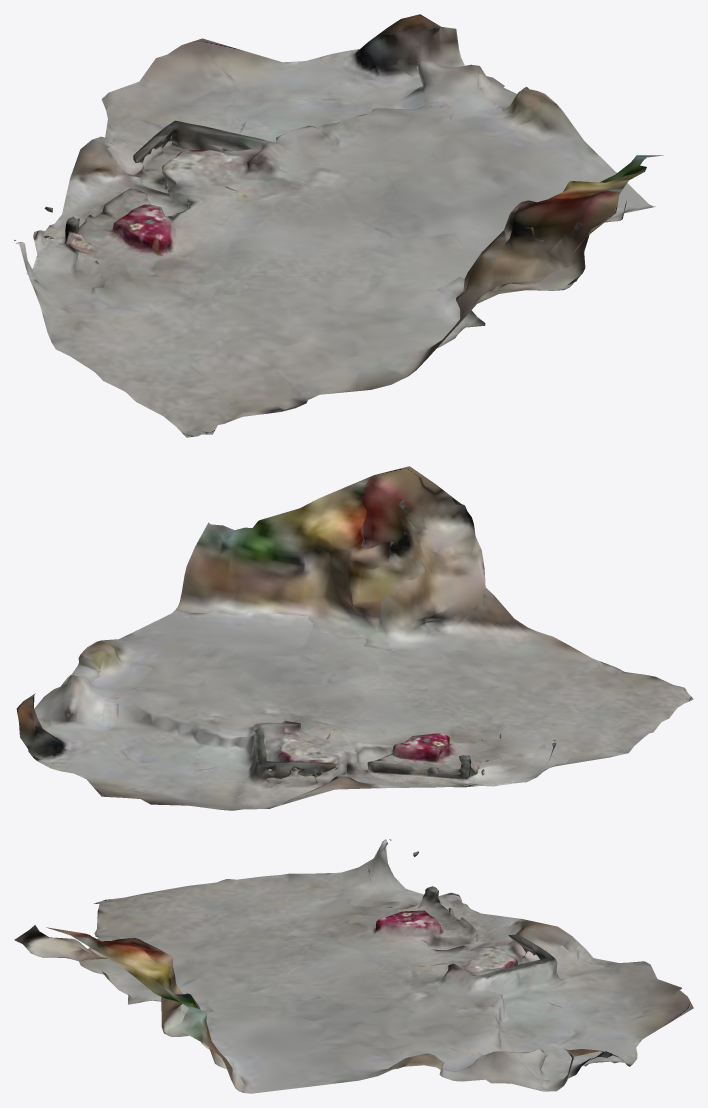
Rendered from hall.glb.
3 renders of one model, top to bottom at view 1: azimuth 30°, elevation 25°; view 2: azimuth 150°, elevation 25°; view 3: azimuth 270°, elevation 25°, orthographic. The views are drawn at different scales.
Size of the model in its own units: 3.55 by 0.9431 by 4.37.
1 material, 1 textured.
